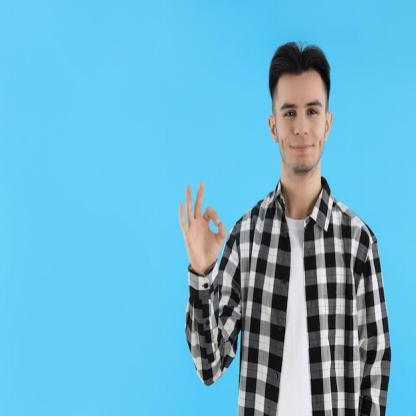ok: (178, 178, 229, 275)
